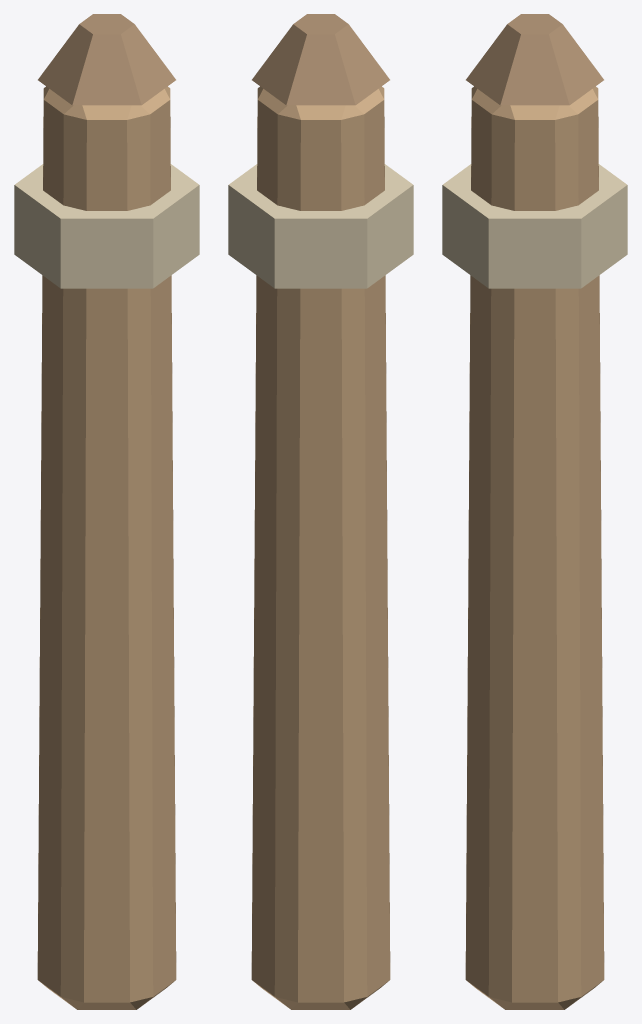
The model's file is ponte_poste.fbx.
The picture shows the model from 3 angles, left to right: view 1: azimuth 30°, elevation 25°; view 2: azimuth 150°, elevation 25°; view 3: azimuth 270°, elevation 25°; orthographic projection.
Visible parts, largest first — view 1: ponte_poste~Poste@wood, ponte_poste~Amarra@rope, ponte_poste~Capa@wooddark; view 2: ponte_poste~Poste@wood, ponte_poste~Amarra@rope, ponte_poste~Capa@wooddark; view 3: ponte_poste~Poste@wood, ponte_poste~Amarra@rope, ponte_poste~Capa@wooddark.
Boxes of the visible parts, x1,y1,x2,y2 form: ponte_poste~Poste@wood: (37,86,176,1009); ponte_poste~Amarra@rope: (14,164,199,288); ponte_poste~Capa@wooddark: (38,14,175,105); ponte_poste~Poste@wood: (251,86,390,1009); ponte_poste~Amarra@rope: (228,164,413,288); ponte_poste~Capa@wooddark: (252,14,389,105); ponte_poste~Poste@wood: (465,86,604,1009); ponte_poste~Amarra@rope: (442,164,627,288); ponte_poste~Capa@wooddark: (466,14,603,105).
Size of the model in its own units: 0.2078 by 1.38 by 0.24.
